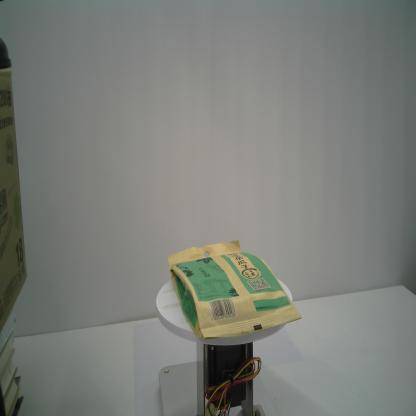Dried Food: (166, 238, 303, 344)
